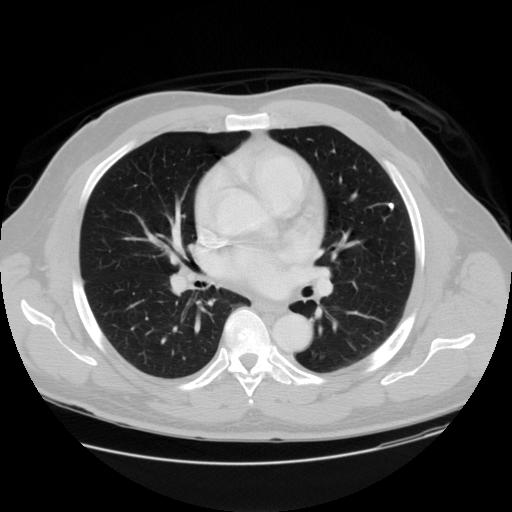nodule: (386, 200, 397, 211)
